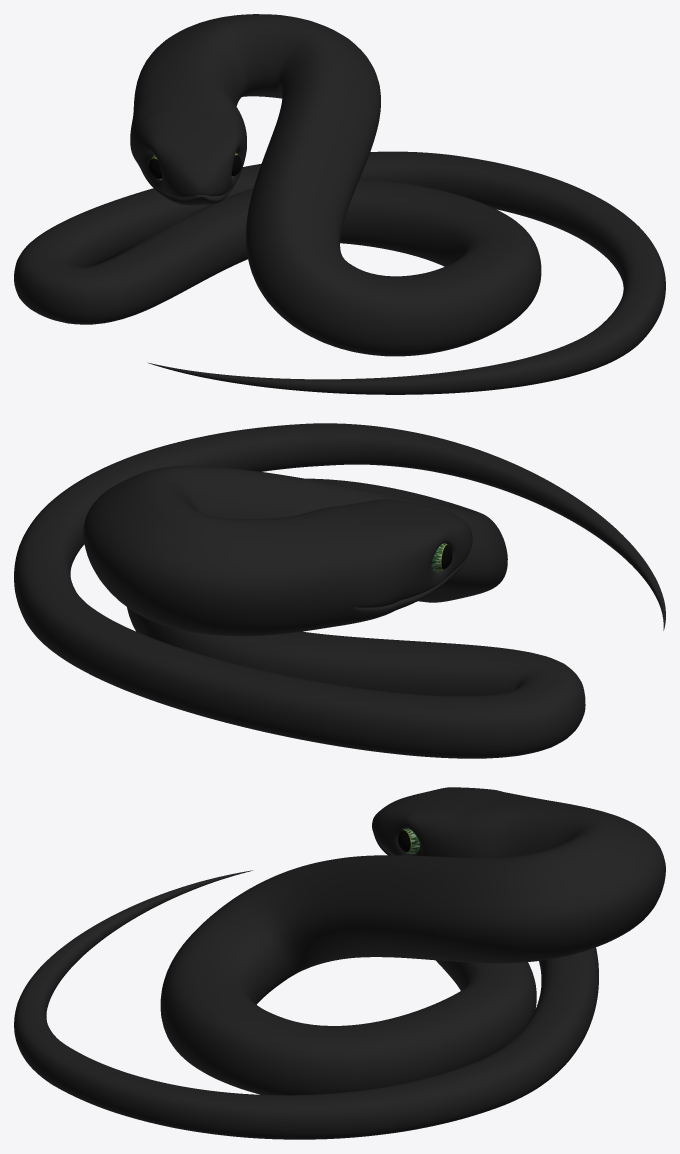
File: sceen_3_part2_ular_bagian3_3_baris_tengah_atas_1.glb
The picture shows the model from 3 angles, top to bottom: view 1: azimuth 30°, elevation 25°; view 2: azimuth 150°, elevation 25°; view 3: azimuth 270°, elevation 25°; orthographic projection. The views are drawn at different scales.
Visible parts, largest first — view 1: Serpiente_0; view 2: Serpiente_0; view 3: Serpiente_0.
Boxes of the visible parts, x1,y1,x2,y2 form: Serpiente_0: [14, 14, 665, 394]; Serpiente_0: [14, 423, 665, 758]; Serpiente_0: [14, 787, 665, 1139].
Bounding box in the file's own units: 6.85 × 2.4 × 7.
Materials: 2 (2 with a texture image).
